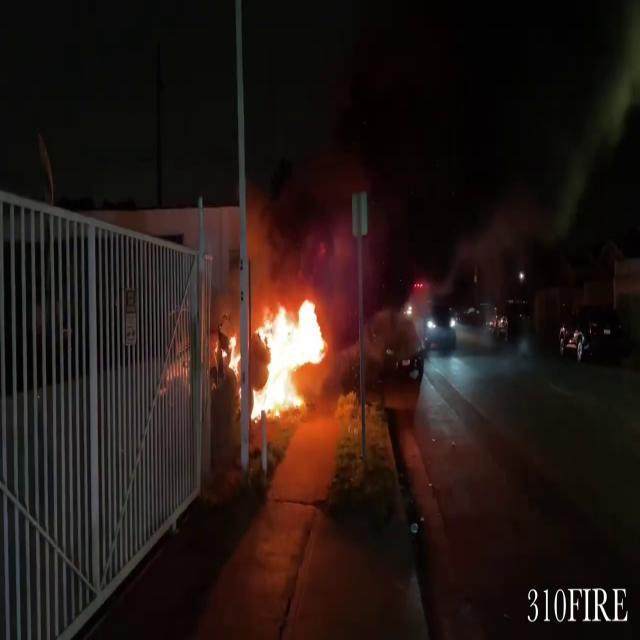Fire: (249, 290, 335, 422)
